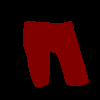bermuda: (22, 20, 89, 87)
